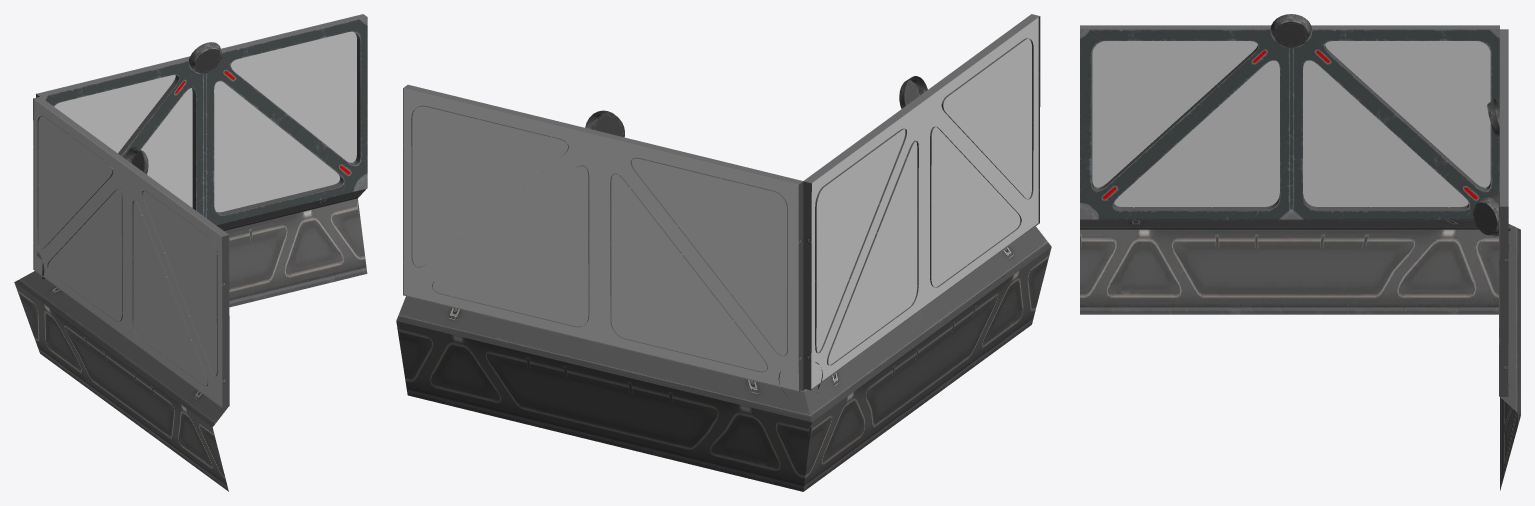
The model's file is WallWindow_Corner_Square_Inner.glb.
The picture shows the model from 3 angles, left to right: view 1: azimuth 30°, elevation 25°; view 2: azimuth 150°, elevation 25°; view 3: azimuth 270°, elevation 25°; orthographic projection. The views are drawn at different scales.
Visible parts, largest first — view 1: WallWindow_Corner_Square_Inner; view 2: WallWindow_Corner_Square_Inner; view 3: WallWindow_Corner_Square_Inner.
Boxes of the visible parts, bbox=[...] form: WallWindow_Corner_Square_Inner: bbox=[14, 14, 367, 491]; WallWindow_Corner_Square_Inner: bbox=[396, 14, 1051, 491]; WallWindow_Corner_Square_Inner: bbox=[1080, 14, 1520, 490].
Bounding box in the file's own units: 4.2 × 3.19 × 4.2.
Materials: 4 (3 with a texture image).
